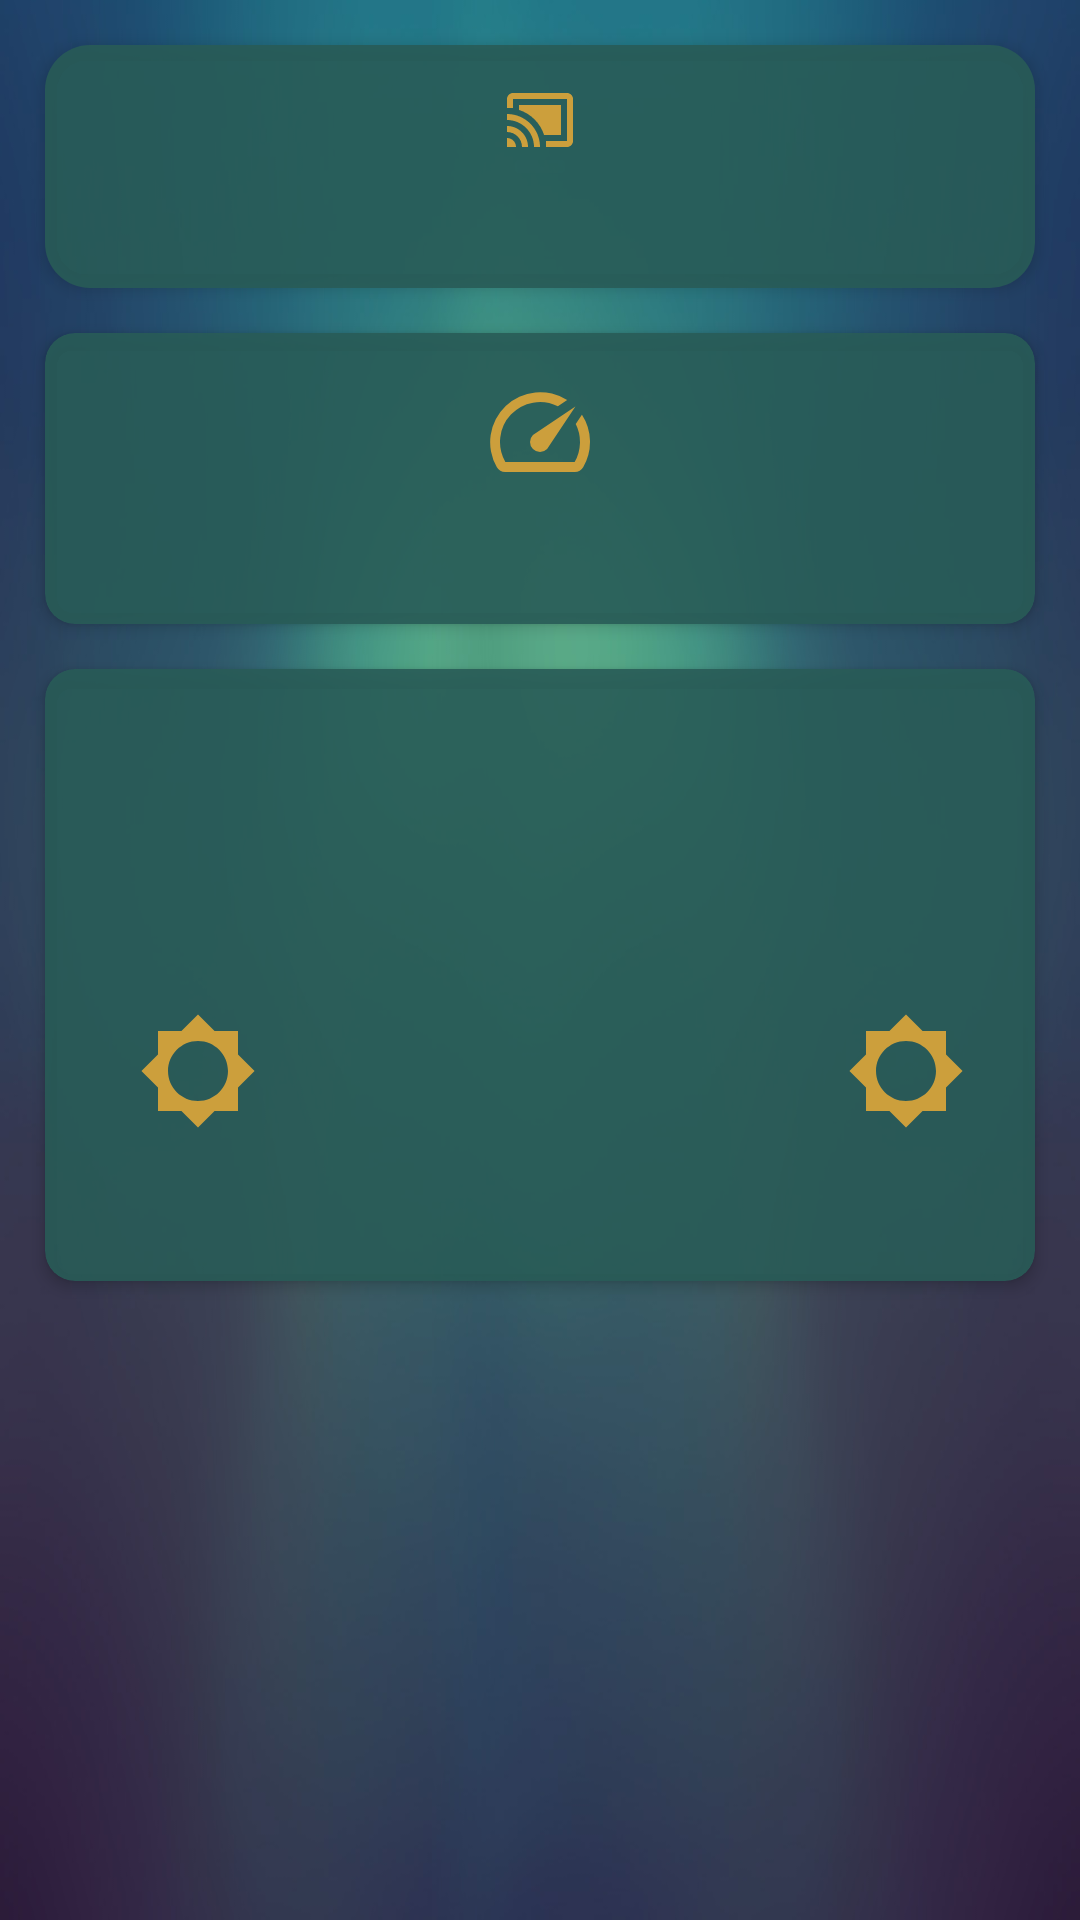

Named icons in this screenshot (1080*1920) and their centers, (x,y):
cast connected: (540,120)
speed: (540,432)
